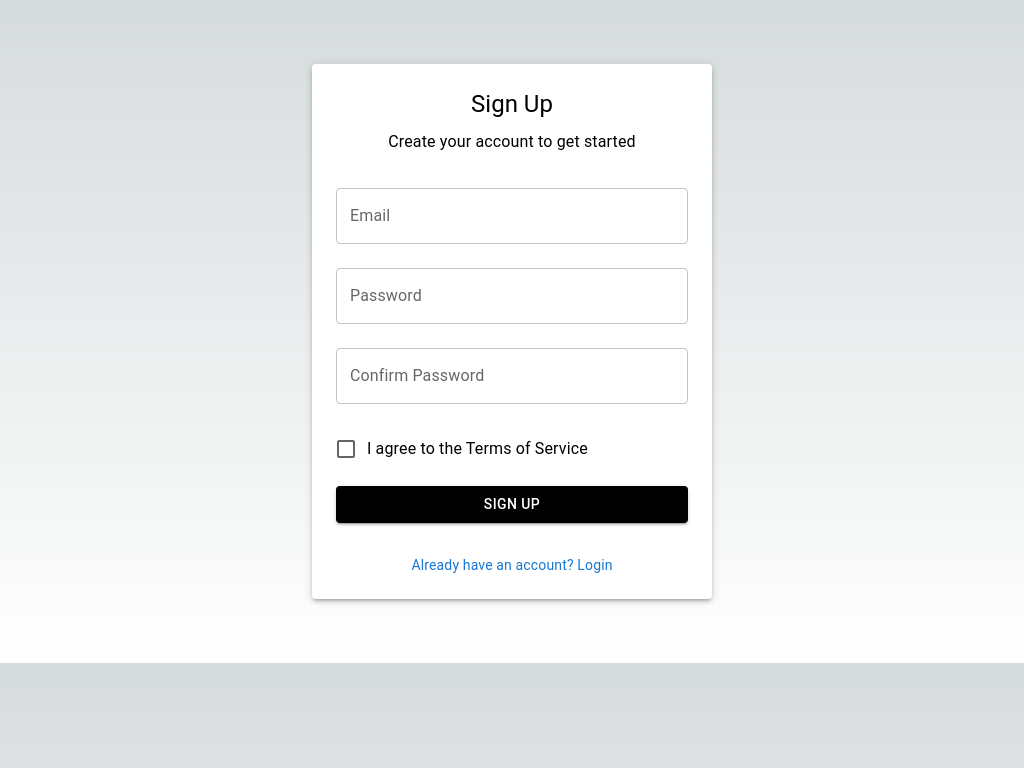
Test: AuthForm Login Component › ログイン認証に失敗した場合にエラーメッセージを表示する
The image size is (1024, 768).
Click the link with test id "switchLink" at (512, 565), box [411,557,613,573]
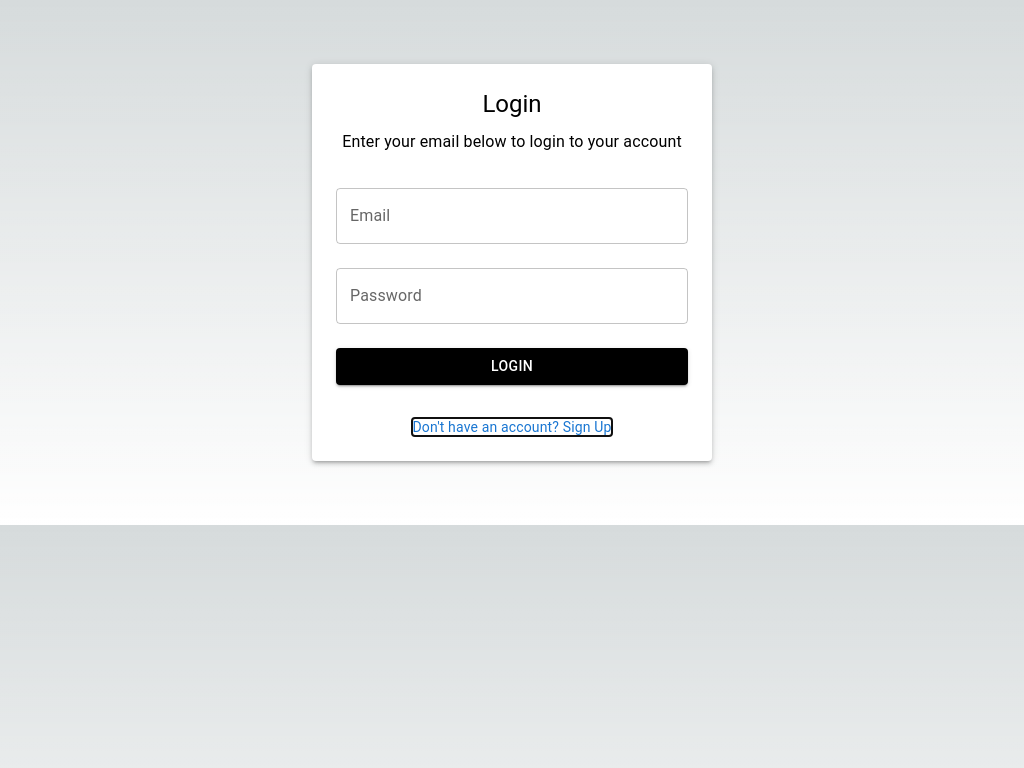
Type "wrong@example.com" into the field labelled "Email" at (512, 216), box [336,188,688,244]
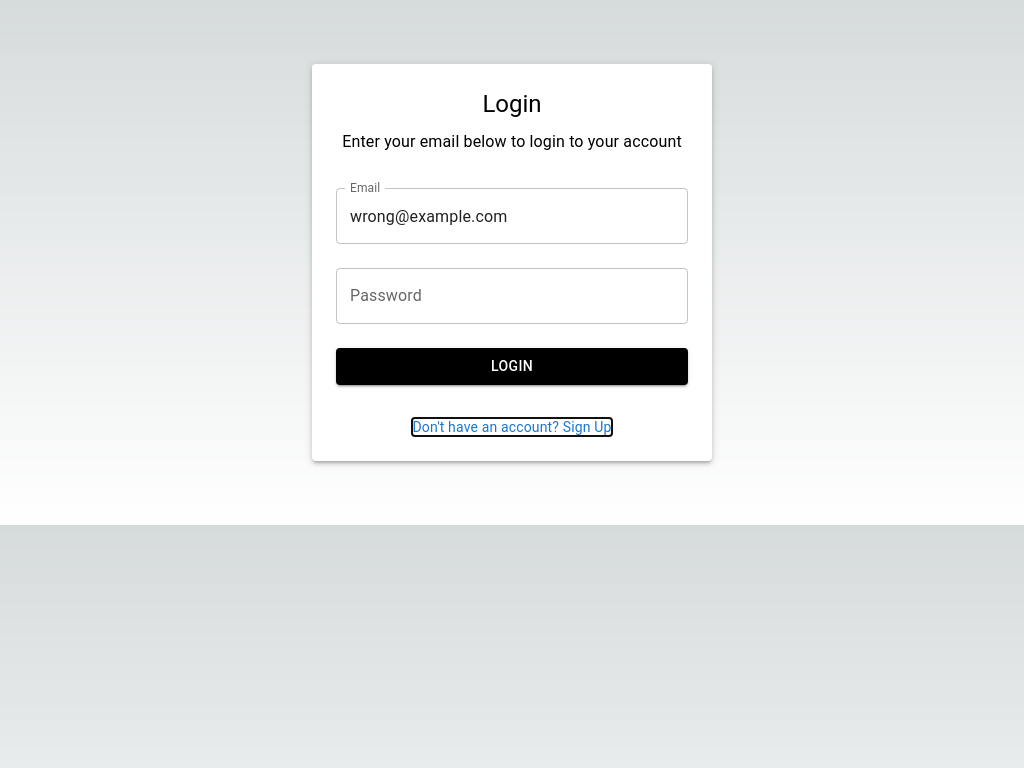
Type "wrongpassword" into the password field labelled "Password" at (512, 296), box [336,268,688,324]
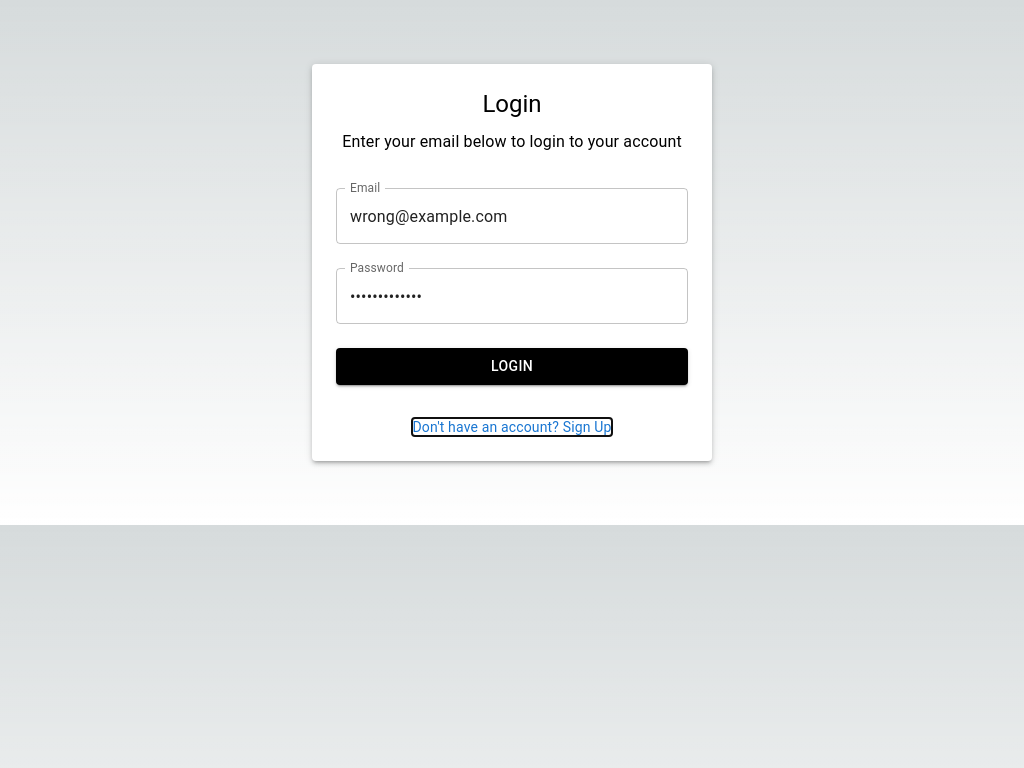
Click the button with test id "loginButton" at (512, 367), box [336,348,688,385]
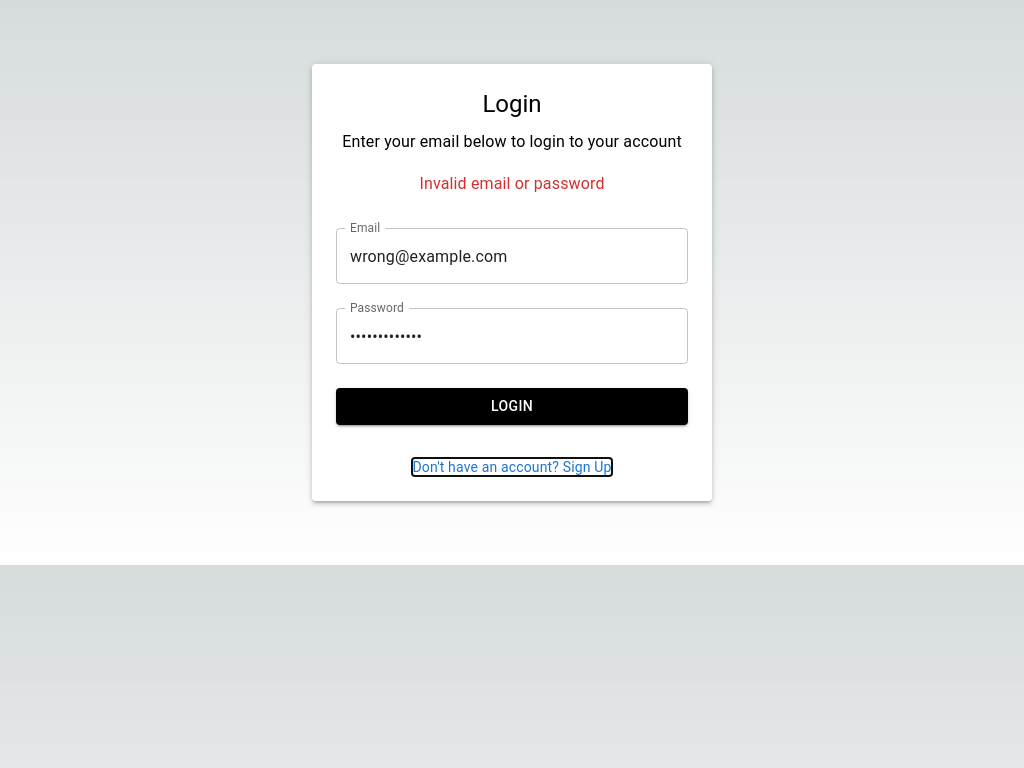
Now the text "Invalid email or password" is shown, box [419,172,605,196]
